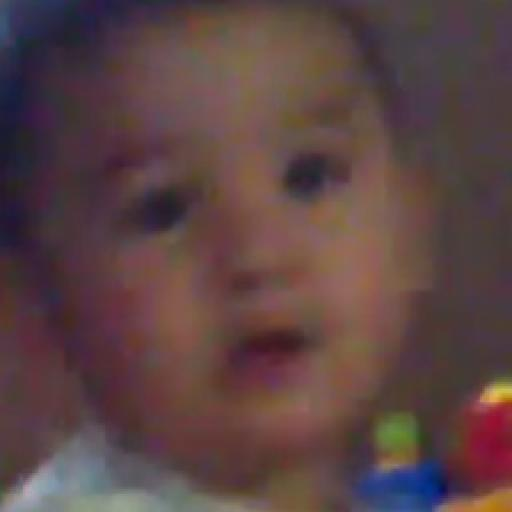Autism: (18, 0, 480, 448)
